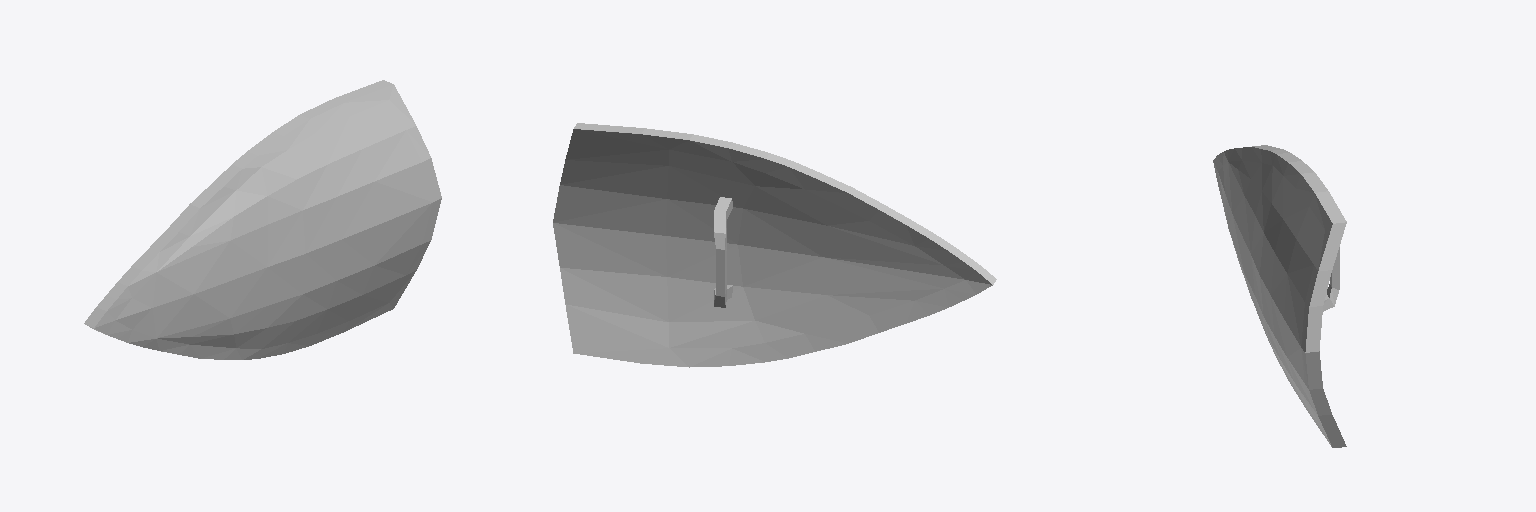
Rendered from grass.obj.
3 renders of one model, left to right at view 1: azimuth 30°, elevation 25°; view 2: azimuth 150°, elevation 25°; view 3: azimuth 270°, elevation 25°, orthographic.
Parts seen in each view (by area): view 1: mesh0; view 2: mesh0; view 3: mesh0.
Boxes of the visible parts, x1=… form: mesh0: x1=84, y1=80, x2=441, y2=359; mesh0: x1=553, y1=123, x2=996, y2=367; mesh0: x1=1213, y1=145, x2=1346, y2=447.
Size of the model in its own units: 0.8398 by 0.4631 by 0.2452.